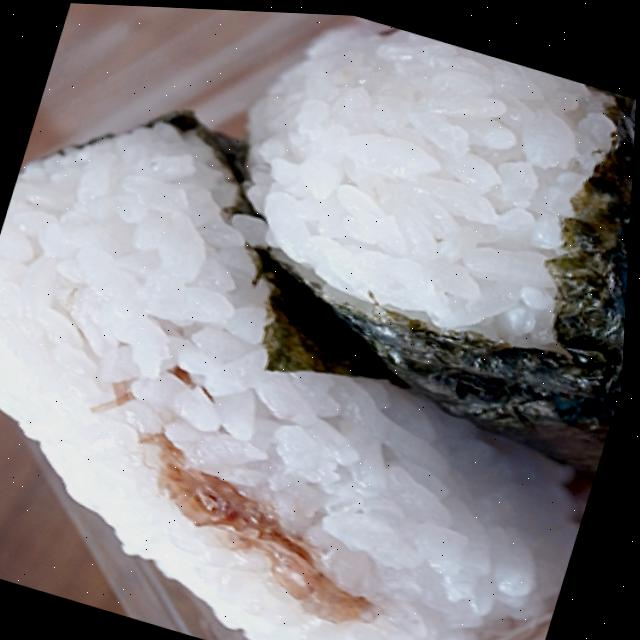米饭主食: (0, 73, 637, 640), (181, 7, 640, 467)
